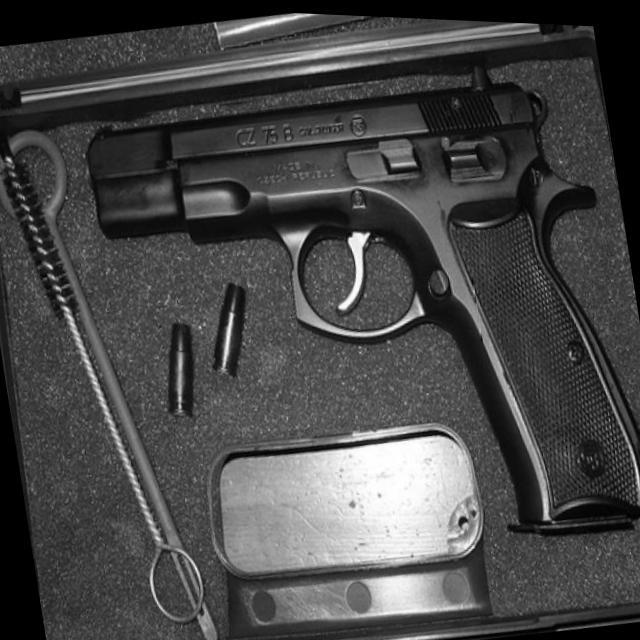weapon: (79, 34, 640, 596)
